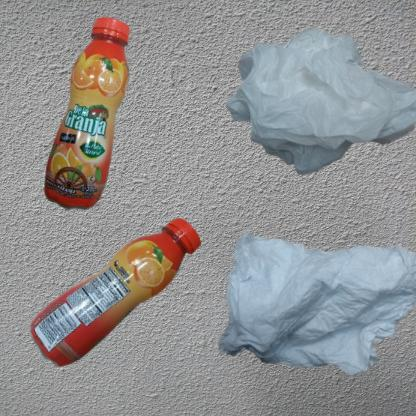bolsa: (213, 10, 416, 213)
botella: (10, 10, 225, 293), (10, 213, 272, 405)
papel: (213, 213, 416, 401)
